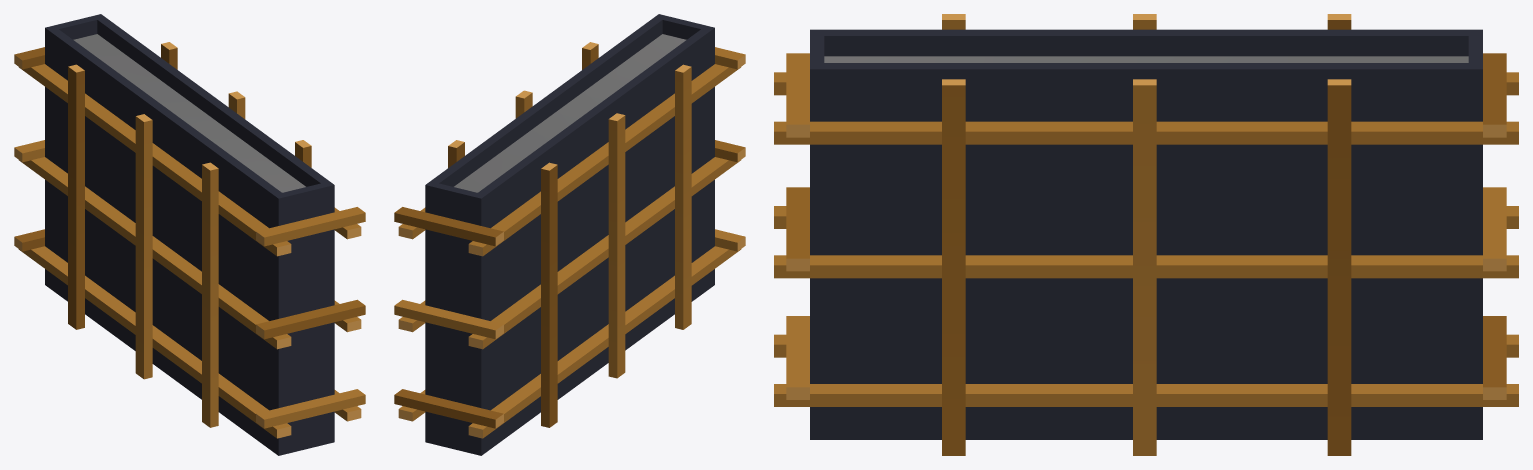
The model's file is ConcrateFrame_1_1.obj.
3 renders of one model, left to right at view 1: azimuth 30°, elevation 25°; view 2: azimuth 150°, elevation 25°; view 3: azimuth 270°, elevation 25°, orthographic. The views are drawn at different scales.
Visible parts, largest first — view 1: ConcrateFrame_1_1; view 2: ConcrateFrame_1_1; view 3: ConcrateFrame_1_1.
Part boxes in pixels (x1,y1,x2,y2): ConcrateFrame_1_1: (14, 14, 365, 455); ConcrateFrame_1_1: (394, 14, 745, 455); ConcrateFrame_1_1: (774, 14, 1518, 455).
Size of the model in its own units: 1.05 by 2.54 by 4.63.
